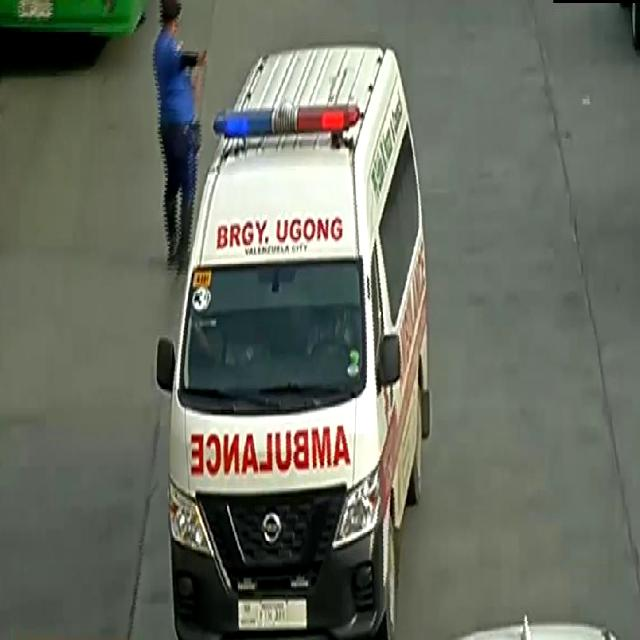emergency: (156, 41, 430, 637)
